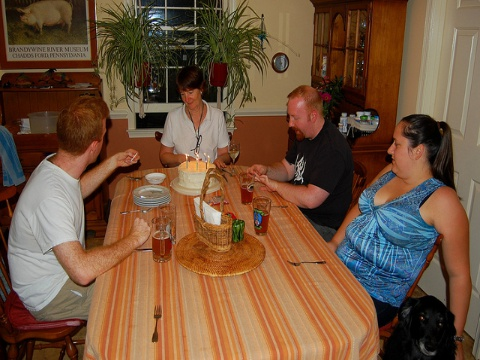hand: (130, 215, 152, 244), (252, 170, 277, 191), (116, 148, 140, 168), (213, 158, 229, 170)
